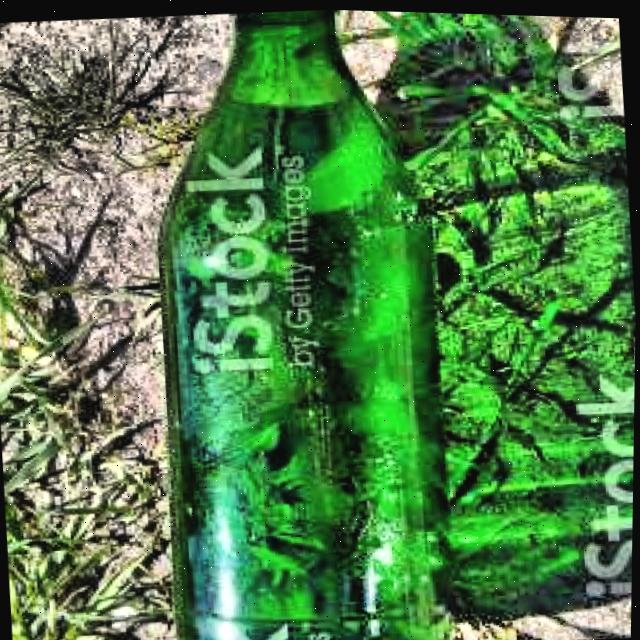glass: (156, 7, 455, 640)
